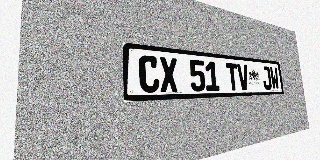1: (204, 61, 220, 91)
5: (189, 59, 206, 92)
C: (138, 55, 160, 93)
J: (261, 66, 272, 90)
T: (226, 63, 239, 91)
V: (237, 64, 250, 90)
W: (269, 67, 280, 89)
X: (159, 57, 179, 92)
